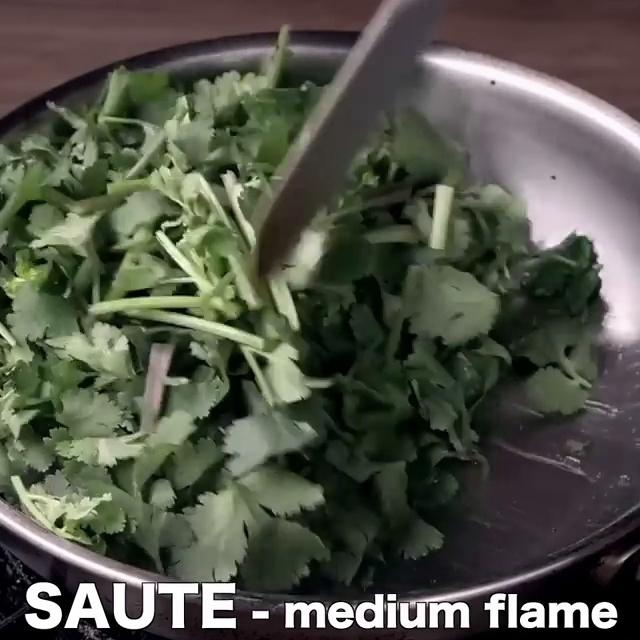cilantro: (0, 91, 256, 543)
